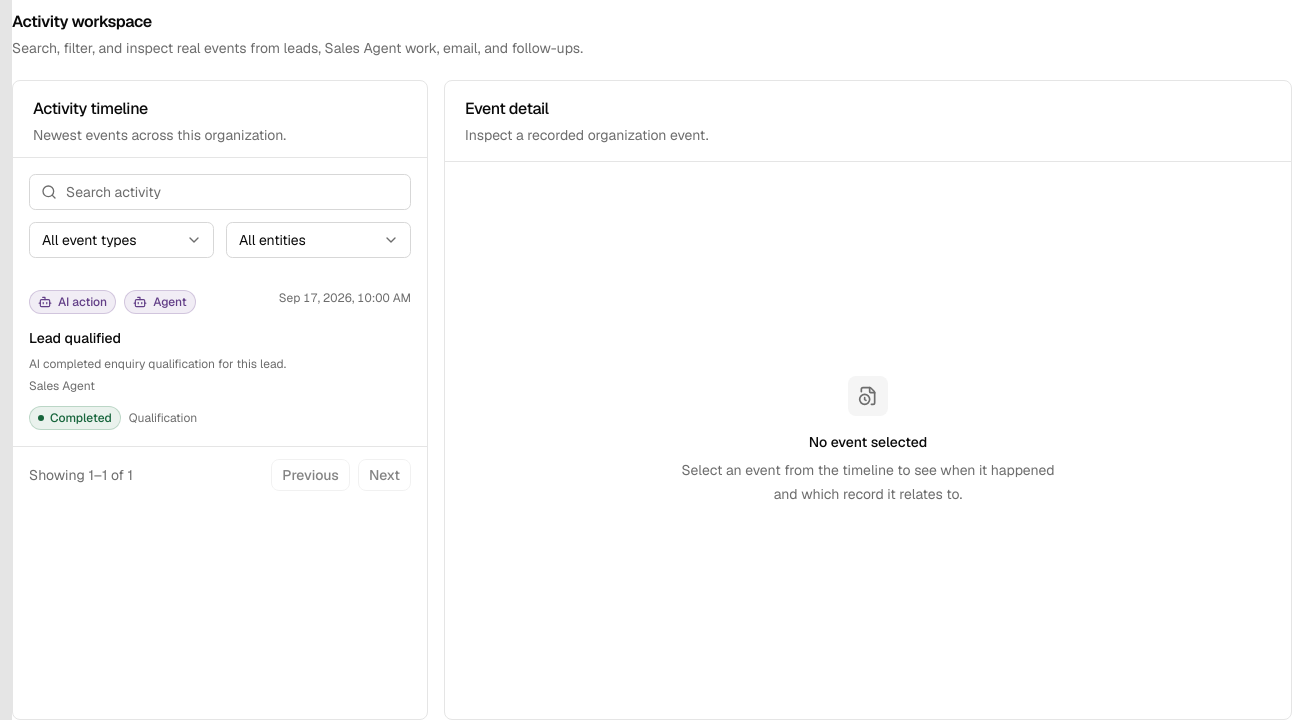
Scenario: Activity page › renders populated activity and loads detail on select
This screenshot has width=1292, height=720.
(page scrolled)
Expected: the text "Lead qualified" is shown, [29,329,121,347]
Step 1. Click the button "Lead qualified" → [220, 360], box [13,274,427,446]
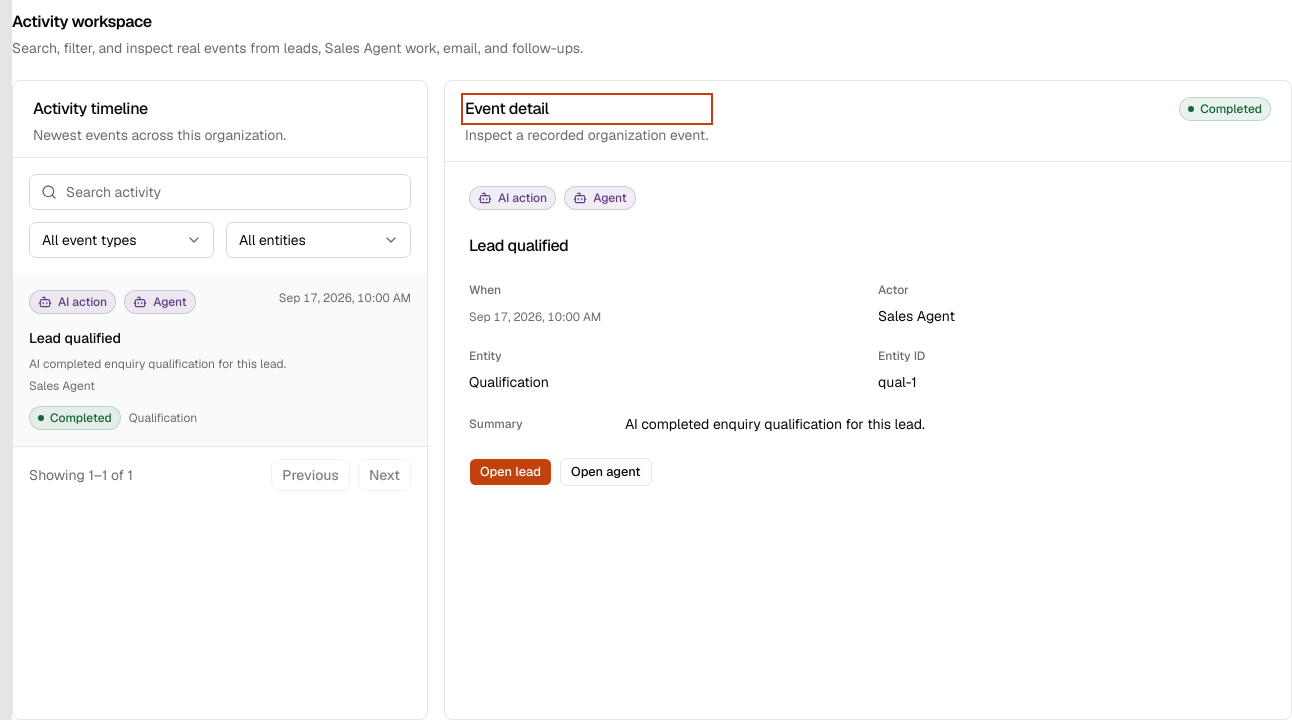
Expected: the text "AI completed enquiry qualification for this lead." below "qual-1" is shown, [625,415,925,433]
Expected: the text "Completed" is shown, [1179,97,1271,121]
